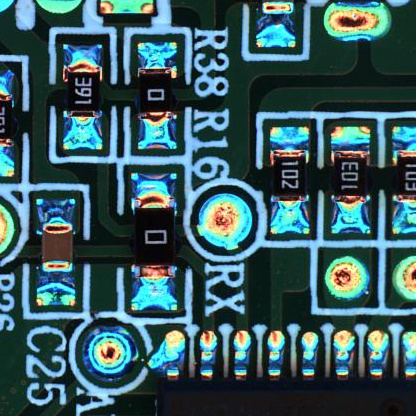spot: (189, 184, 258, 258), (77, 321, 142, 386), (316, 253, 373, 307)
